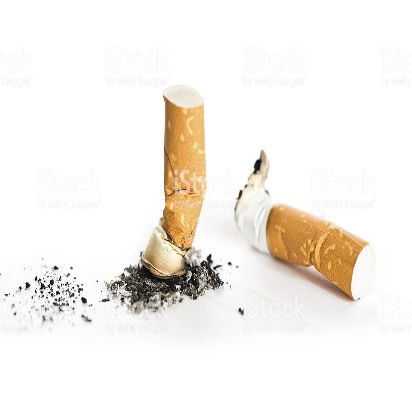cigarette: (228, 139, 377, 309), (132, 82, 215, 289)
